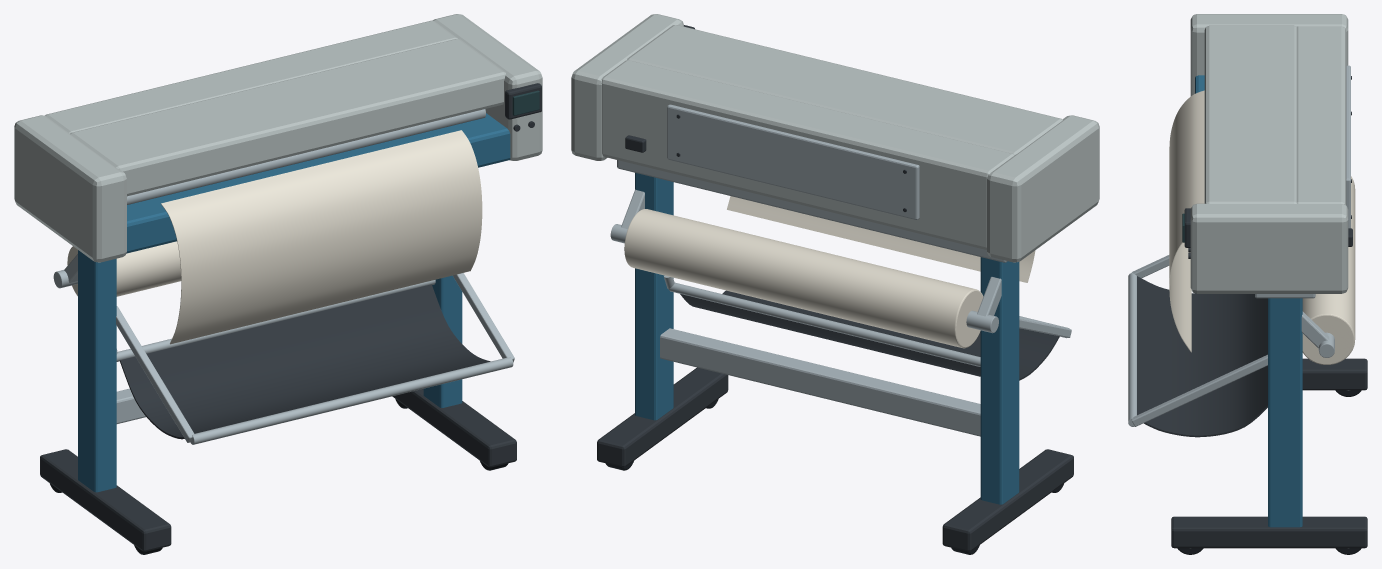
File: city-wide-format-roll-plotter.glb
3 views of the same model, side by side, from view 1: azimuth 30°, elevation 25°; view 2: azimuth 150°, elevation 25°; view 3: azimuth 270°, elevation 25° (orthographic). The views are drawn at different scales.
Visible parts, largest first — view 1: Assembly | Powder-coated light service metal, Assembly | Blank warm paper, Assembly | Dark mechanism trim, Assembly | Deep blue service paint, Assembly | Brushed exposed steel; view 2: Assembly | Powder-coated light service metal, Assembly | Brushed exposed steel, Assembly | Blank warm paper, Assembly | Dark mechanism trim, Assembly | Deep blue service paint; view 3: Assembly | Powder-coated light service metal, Assembly | Dark mechanism trim, Assembly | Blank warm paper, Assembly | Deep blue service paint, Assembly | Brushed exposed steel, Assembly | Rubber feet and hoses.
Boxes of the visible parts, left/top/right/bottom form: Assembly | Powder-coated light service metal: left=14, top=14, right=542, bottom=262; Assembly | Blank warm paper: left=67, top=130, right=482, bottom=344; Assembly | Dark mechanism trim: left=40, top=83, right=541, bottom=551; Assembly | Deep blue service paint: left=78, top=113, right=510, bottom=492; Assembly | Brushed exposed steel: left=53, top=109, right=514, bottom=444; Assembly | Powder-coated light service metal: left=571, top=14, right=1099, bottom=262; Assembly | Brushed exposed steel: left=610, top=104, right=1071, bottom=436; Assembly | Blank warm paper: left=624, top=196, right=1035, bottom=348; Assembly | Dark mechanism trim: left=597, top=25, right=1073, bottom=551; Assembly | Deep blue service paint: left=635, top=173, right=1019, bottom=504; Assembly | Powder-coated light service metal: left=1190, top=14, right=1348, bottom=293; Assembly | Dark mechanism trim: left=1137, top=76, right=1367, bottom=548; Assembly | Blank warm paper: left=1169, top=90, right=1355, bottom=364; Assembly | Deep blue service paint: left=1195, top=75, right=1302, bottom=527; Assembly | Brushed exposed steel: left=1128, top=65, right=1350, bottom=548; Assembly | Rubber feet and hoses: left=1177, top=390, right=1361, bottom=554.
Size of the model in its own units: 1.39 by 1.13 by 0.685.
